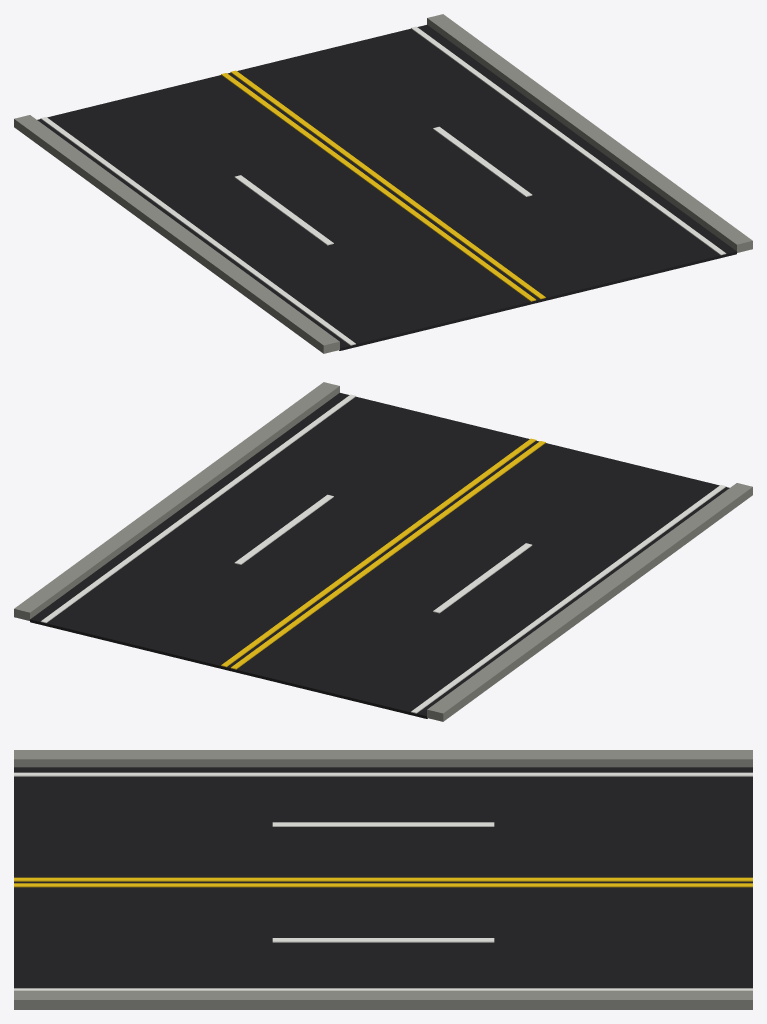
The model's file is Carretera.obj.
The picture shows the model from 3 angles, top to bottom: view 1: azimuth 30°, elevation 25°; view 2: azimuth 150°, elevation 25°; view 3: azimuth 270°, elevation 25°; orthographic projection. The views are drawn at different scales.
Parts seen in each view (by area): view 1: Carretera; view 2: Carretera; view 3: Carretera.
Part boxes in pixels (x1,y1,x2,y2): Carretera: (14, 14, 752, 353); Carretera: (14, 382, 752, 721); Carretera: (14, 750, 752, 1009).
Bounding box in the file's own units: 8 × 0.17 × 10.
